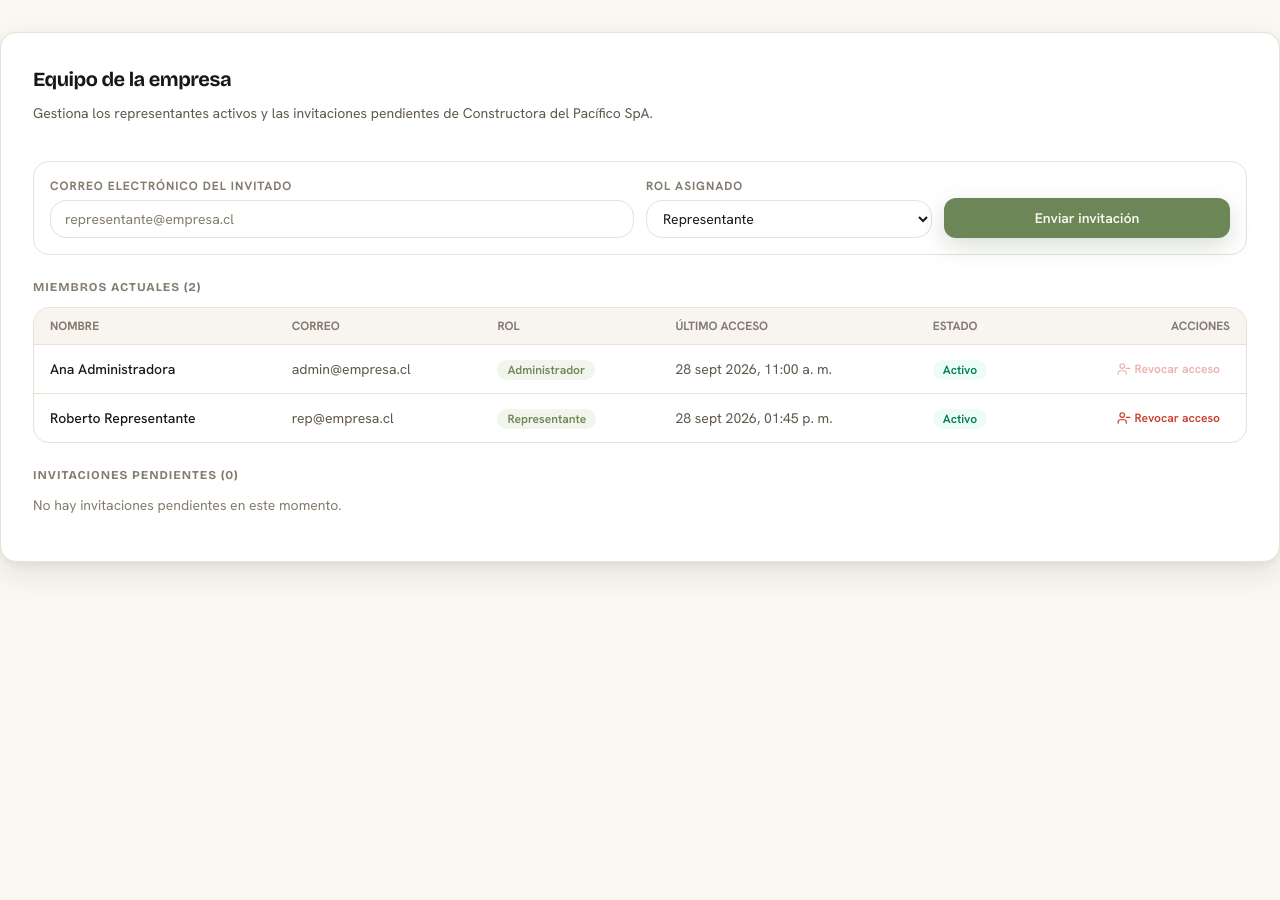
Test case: CompanyTeamSection (HU-13) › CA2: permite al administrador revocar el acceso de un representante con diálogo de confirmación y notificación
This screenshot has width=1280, height=900.
Expected: the text "Roberto Representante" is shown, [34, 394, 276, 442]
Click the button with aria-label "Revocar acceso de Roberto Representante" at (1168, 418), box [1107, 406, 1230, 430]
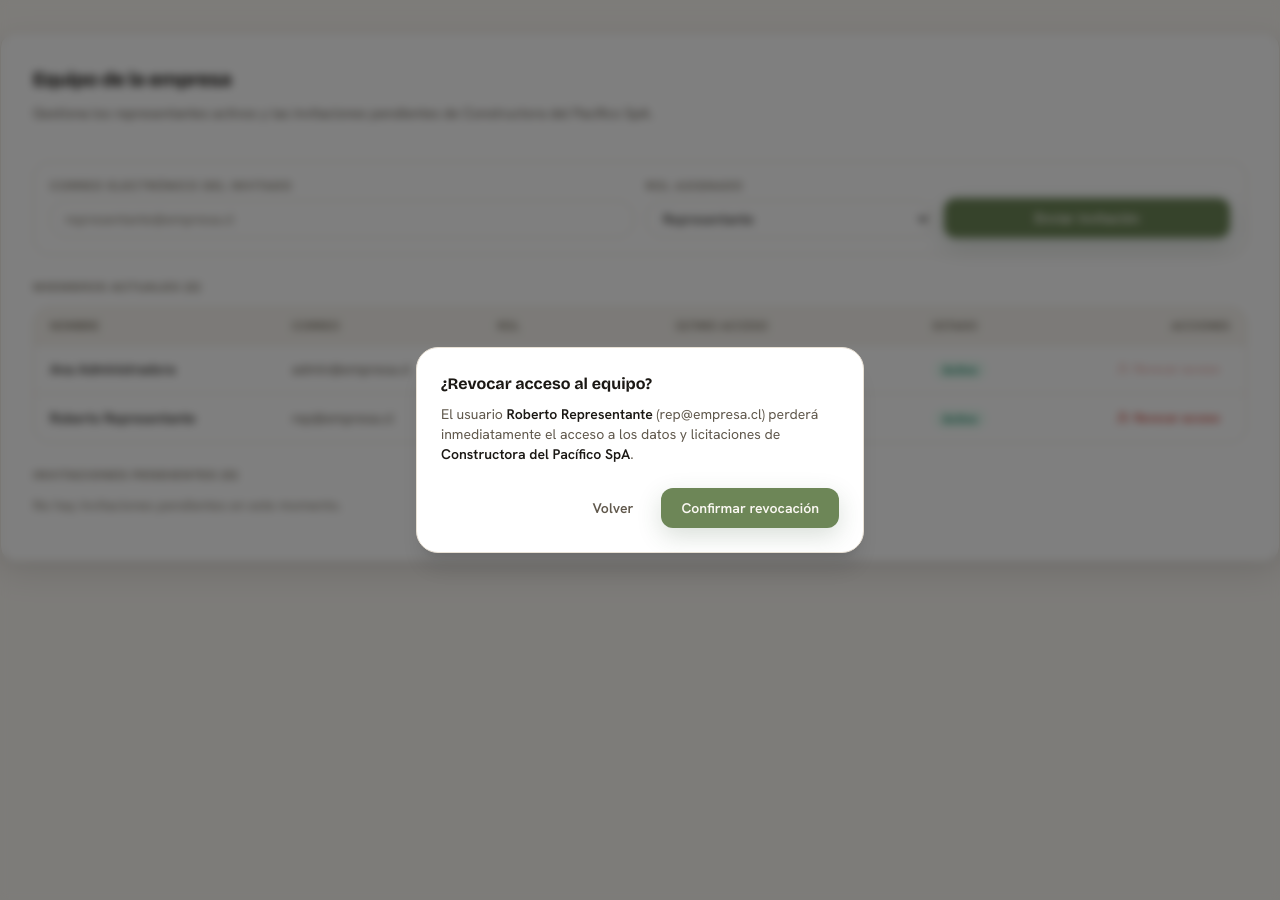
Expected: the dialog is shown
Expected: the heading "¿Revocar acceso al equipo?" is shown, [441, 374, 652, 393]
Click the button "Confirmar revocación" at (750, 508), box [661, 488, 839, 528]
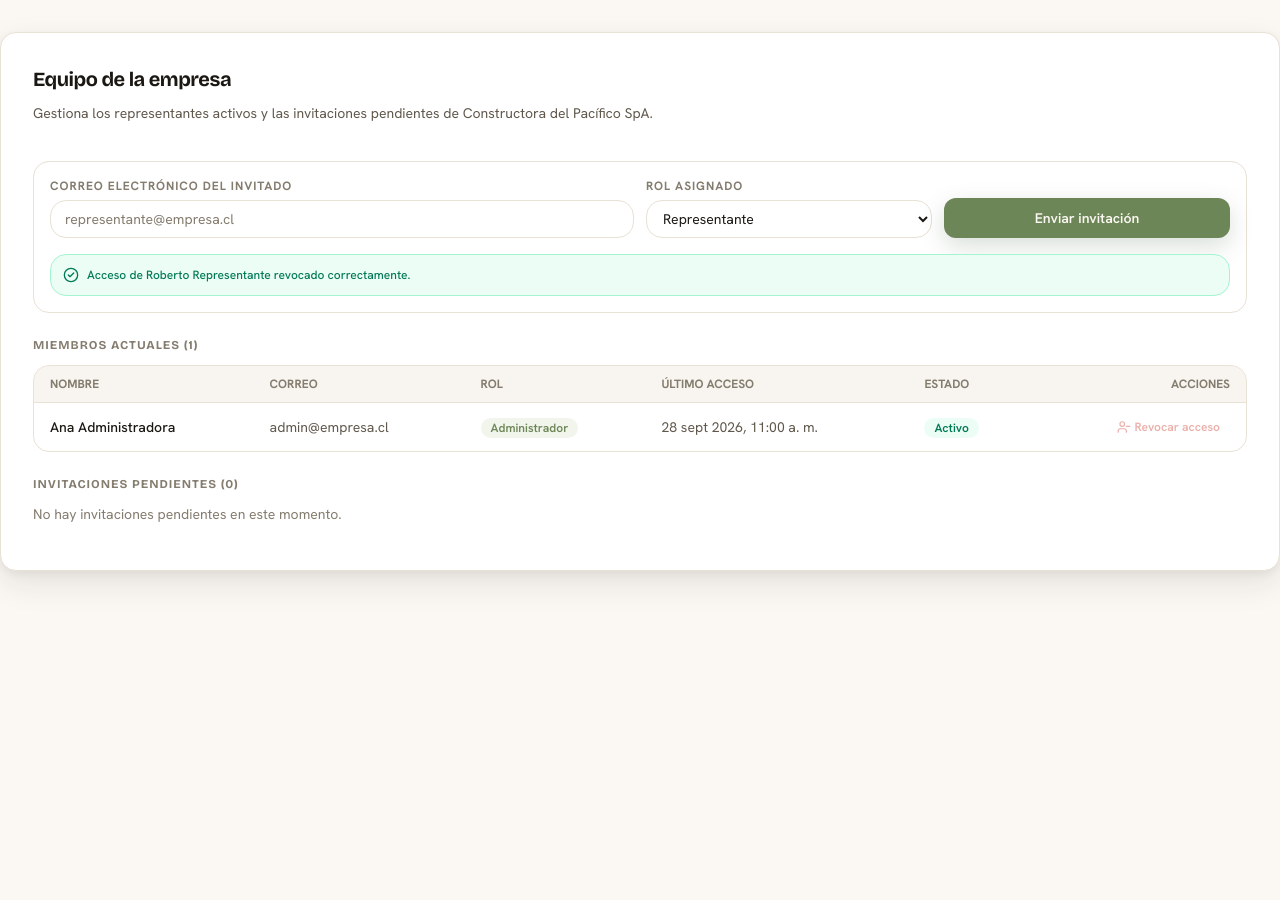
Expected: the message shows "Acceso de Roberto Representante revocado correctamente", [87, 267, 410, 283]
